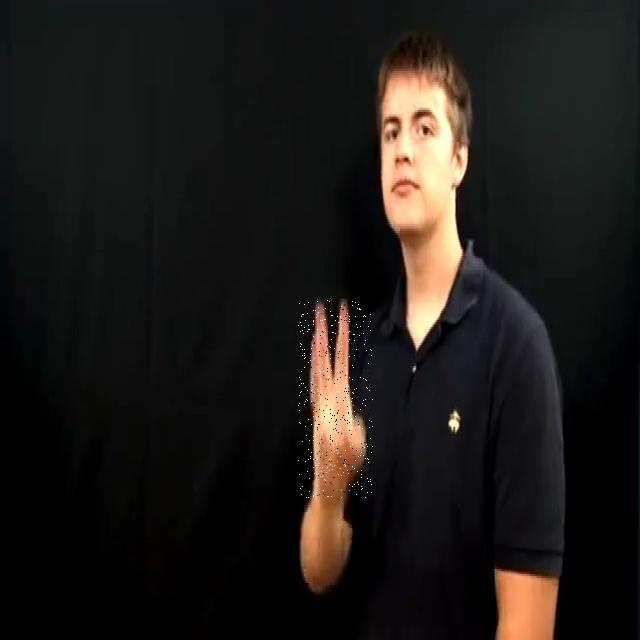water: (298, 300, 373, 498)
